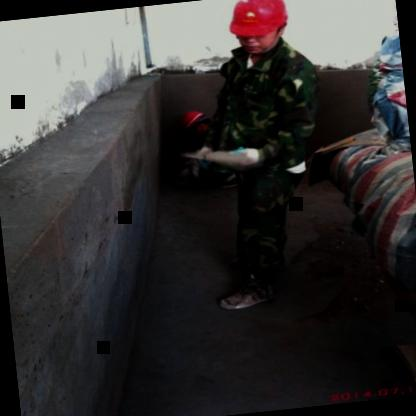helmet: (225, 0, 293, 54), (180, 107, 212, 136)
